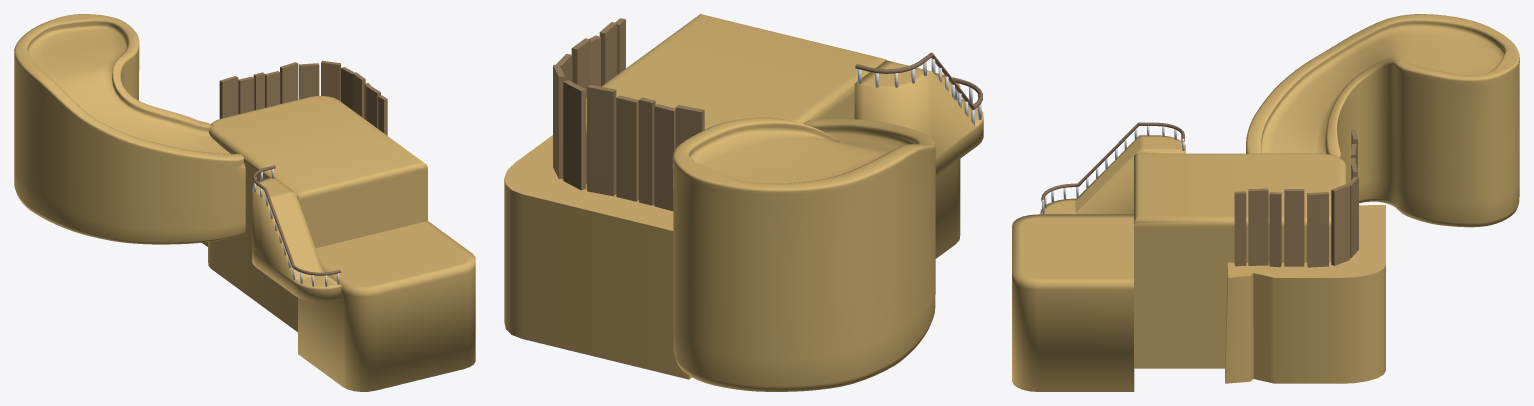
File: Map_re.fbx
3 views of the same model, side by side, from view 1: azimuth 30°, elevation 25°; view 2: azimuth 150°, elevation 25°; view 3: azimuth 270°, elevation 25° (orthographic). The views are drawn at different scales.
Parts seen in each view (by area): view 1: Map_land_01, Map_land_02, Map_land_03_1, Map_land_02.001, Map_land_03_2, Map_land_03_2.001; view 2: Map_land_01, Map_land_02, Map_land_02.001, Map_land_03_2, Map_land_03_1, Map_land_03_2.001; view 3: Map_land_02, Map_land_01, Map_land_03_1, Map_land_02.001, Map_land_03_2, Map_land_03_2.001.
Part boxes in pixels (box(x1,y1,x2,y2)): Map_land_01: box(14, 14, 245, 244); Map_land_02: box(202, 96, 427, 331); Map_land_03_1: box(298, 221, 475, 391); Map_land_02.001: box(219, 60, 387, 135); Map_land_03_2: box(252, 177, 341, 302); Map_land_03_2.001: box(252, 165, 340, 286); Map_land_01: box(672, 117, 935, 391); Map_land_02: box(504, 14, 886, 379); Map_land_02.001: box(553, 18, 704, 211); Map_land_03_2: box(854, 60, 983, 176); Map_land_03_1: box(935, 73, 960, 258); Map_land_03_2.001: box(855, 52, 982, 125); Map_land_02: box(1134, 153, 1385, 383); Map_land_01: box(1246, 14, 1519, 227); Map_land_03_1: box(1012, 214, 1134, 391); Map_land_02.001: box(1234, 130, 1358, 267); Map_land_03_2: box(1040, 135, 1185, 214); Map_land_03_2.001: box(1041, 122, 1184, 214).
Bounding box in the file's own units: 5431 × 3867 × 7463.
